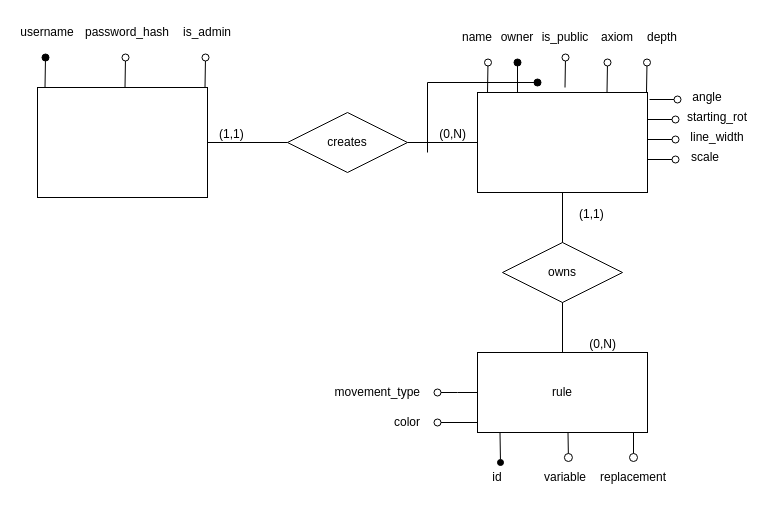
This 764x509 diagram has some shape labels left out. Each missing label, with the centre of its shape:
"drawing" goes at pixel 562 142.
"user" goes at pixel 122 142.
